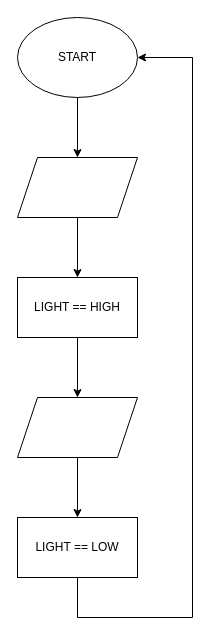
Image size: 218x636. Some labels were removed from this diagram. The centre of each missing label's shape, as x and y in pixels:
"TIME == 4:30AM" belongs at (x=77, y=187).
"TIME == 6:00AM" belongs at (x=77, y=427).
